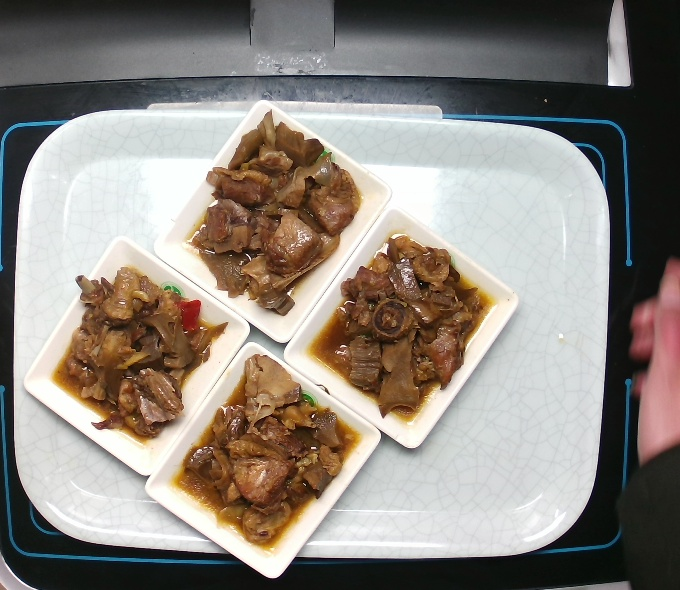wcq-YaRouSunGan: (178, 104, 364, 315), (172, 351, 362, 553), (311, 232, 497, 427), (52, 261, 229, 445)
